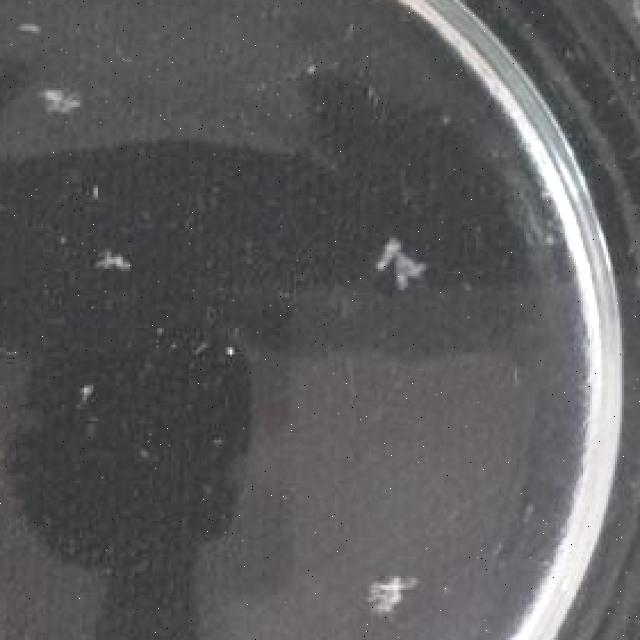Microplastic: (351, 538, 437, 635), (367, 228, 444, 302), (18, 60, 80, 124), (87, 234, 141, 278)
